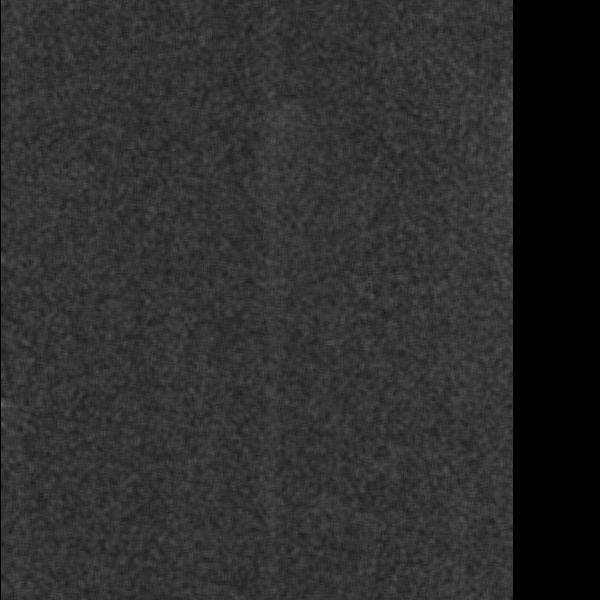spark: (125, 123, 156, 148)
